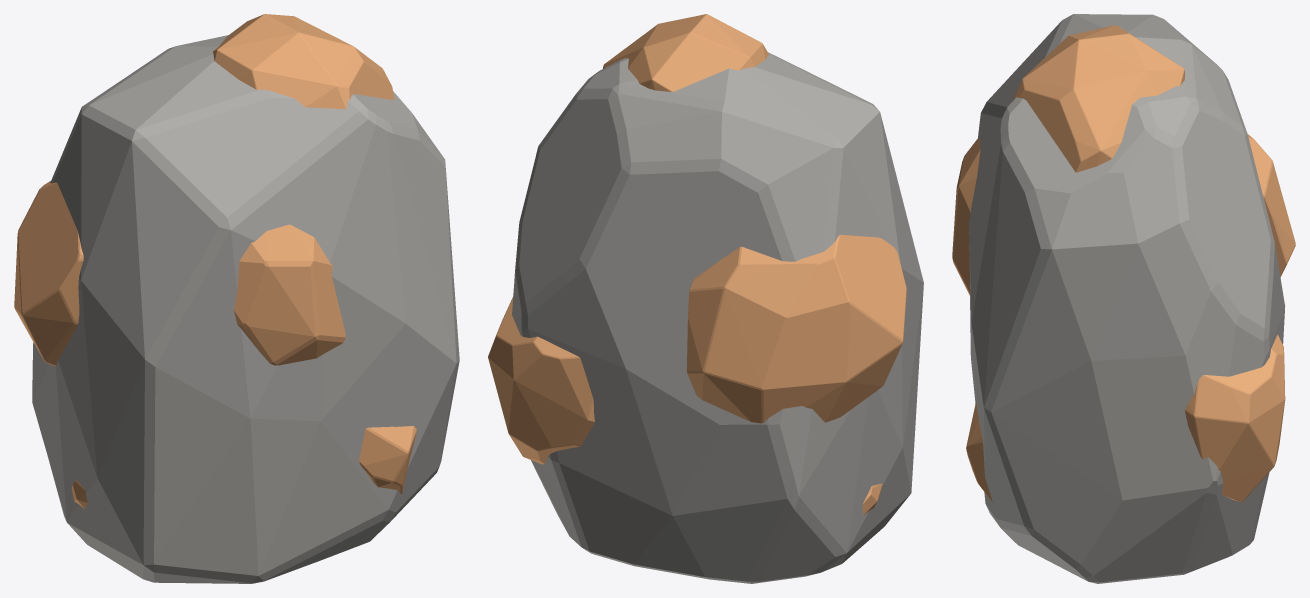
The model's file is ore_vein_iron.glb.
3 views of the same model, side by side, from view 1: azimuth 30°, elevation 25°; view 2: azimuth 150°, elevation 25°; view 3: azimuth 270°, elevation 25° (orthographic). The views are drawn at different scales.
Visible parts, largest first — view 1: OreVein_Iron_Rock, OreVein_Iron; view 2: OreVein_Iron_Rock, OreVein_Iron; view 3: OreVein_Iron_Rock, OreVein_Iron.
Part boxes in pixels (x1,y1,x2,y2): OreVein_Iron_Rock: (32,35,459,583); OreVein_Iron: (14,14,416,509); OreVein_Iron_Rock: (512,52,923,583); OreVein_Iron: (488,14,906,515); OreVein_Iron_Rock: (969,14,1285,583); OreVein_Iron: (952,25,1295,502).
Bounding box in the file's own units: 1.05 × 1.29 × 0.8181.
